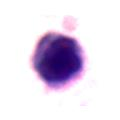lymphocyte: (28, 28, 93, 90)
